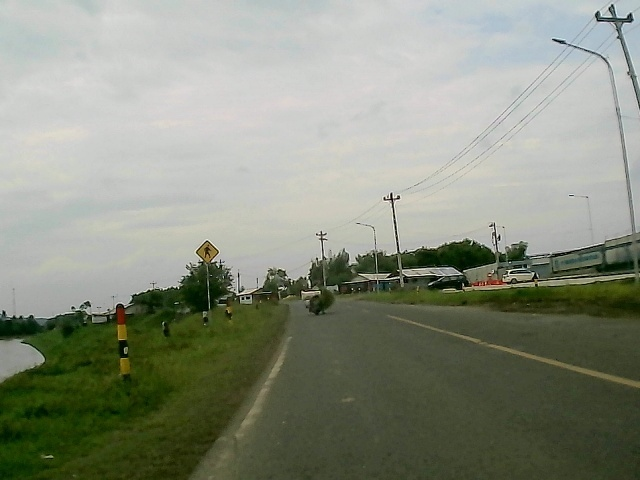Peringatan orang menyeberang: (193, 238, 221, 266)
